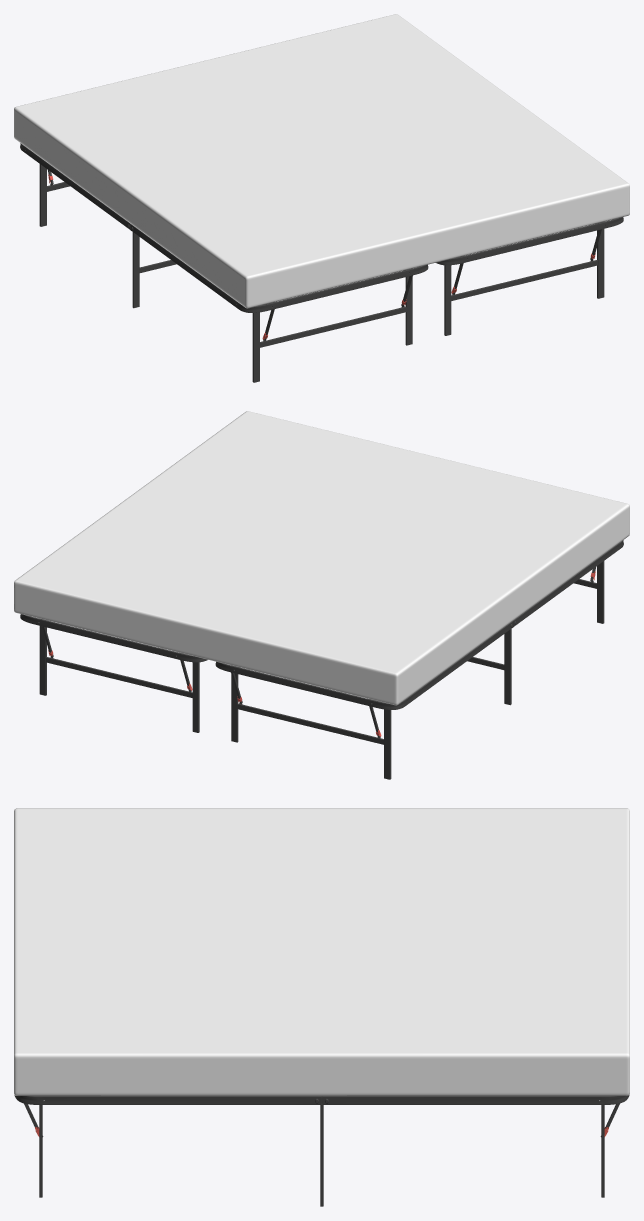
Rendered from abo-B07R7XFD22.glb.
3 renders of one model, top to bottom at view 1: azimuth 30°, elevation 25°; view 2: azimuth 150°, elevation 25°; view 3: azimuth 270°, elevation 25°, orthographic. The views are drawn at different scales.
Bounding box in the file's own units: 1.93 × 0.559 × 2.03.
1 material, 1 textured.
